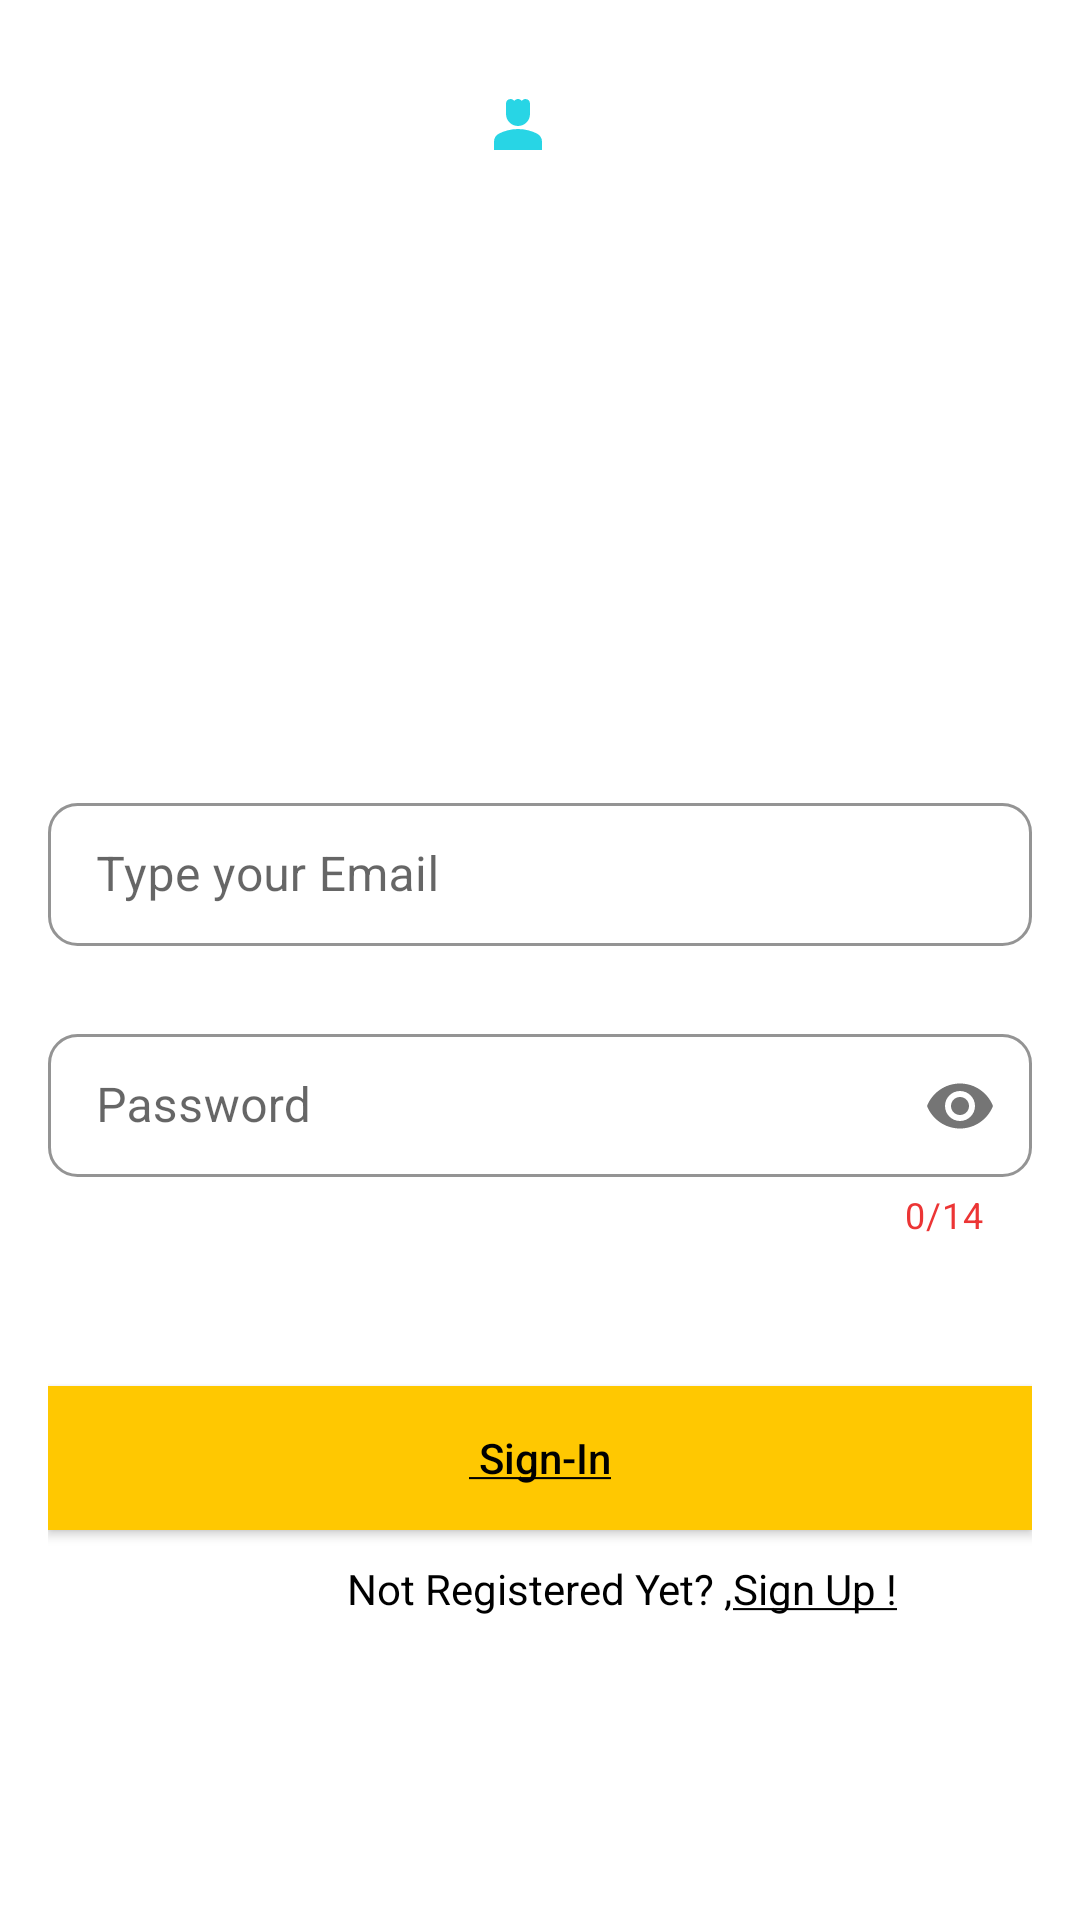

Where icons sit on this 1080 x 1920 app screen, as (x1=x1, y1=y1, x2=x2, y2=y2):
person: (x1=494, y1=99, x2=542, y2=150)
